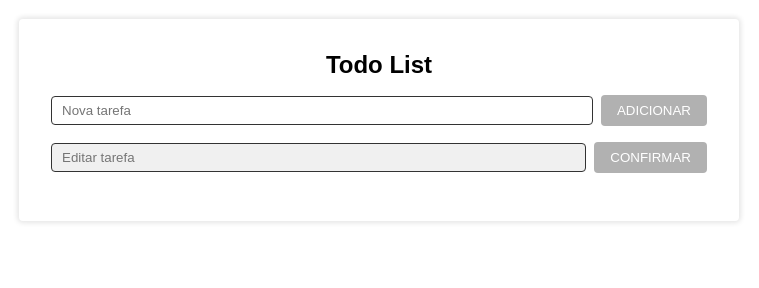
Test case: <TodoList /> › can remove todo
The image size is (759, 288).
Type "Lavar o carro" into the field with placeholder "Nova tarefa" at (322, 110), box [51,96,593,125]
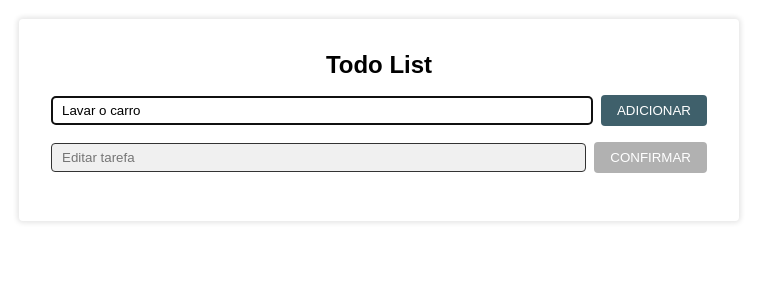
Click the button "ADICIONAR" at (654, 110), box [601,95,707,126]
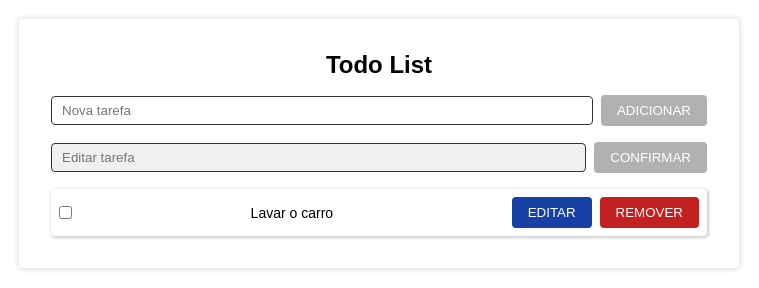
Click the button "REMOVER" at (649, 212), box [600,197,699,228]
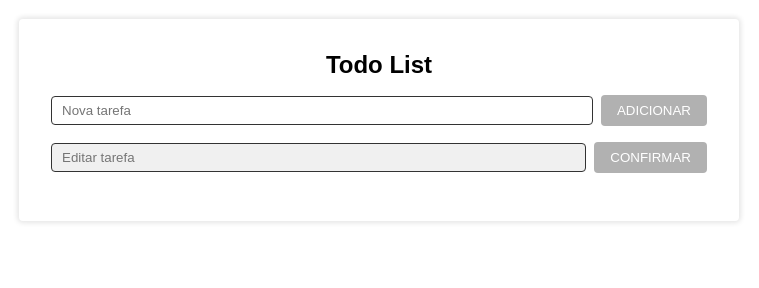
Expected: the text "Lavar o carro" is gone
